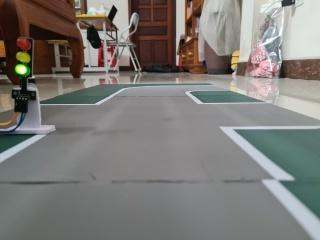green: (8, 33, 44, 83)
